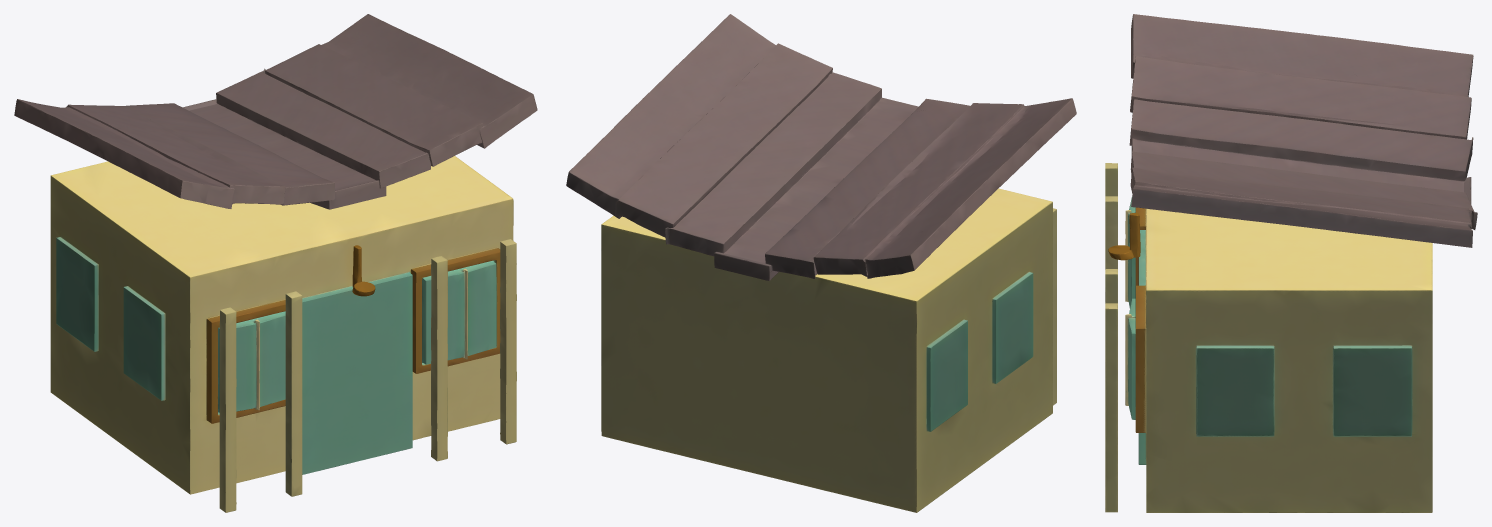
File: source.glb
3 views of the same model, side by side, from view 1: azimuth 30°, elevation 25°; view 2: azimuth 150°, elevation 25°; view 3: azimuth 270°, elevation 25° (orthographic). The views are drawn at different scales.
Visible parts, largest first — view 1: model; view 2: model; view 3: model.
Boxes of the visible parts, bbox=[...] form: model: bbox=[14, 14, 537, 512]; model: bbox=[566, 14, 1076, 512]; model: bbox=[1105, 14, 1477, 512].
Size of the model in its own units: 1.9 by 1.68 by 1.67.
1 material, 1 textured.
